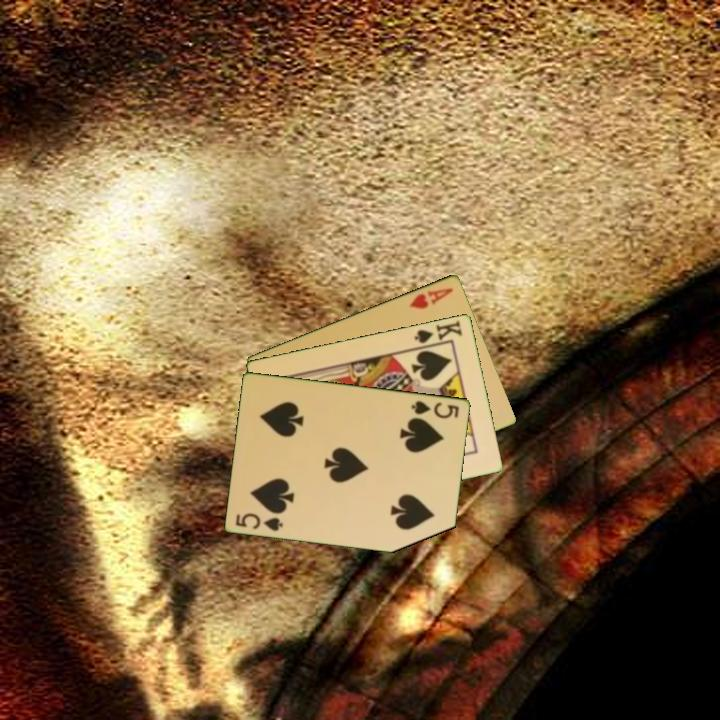5s: (232, 509, 286, 534), (408, 397, 462, 421)
Ah: (406, 284, 456, 312)
Ks: (411, 316, 465, 346)
